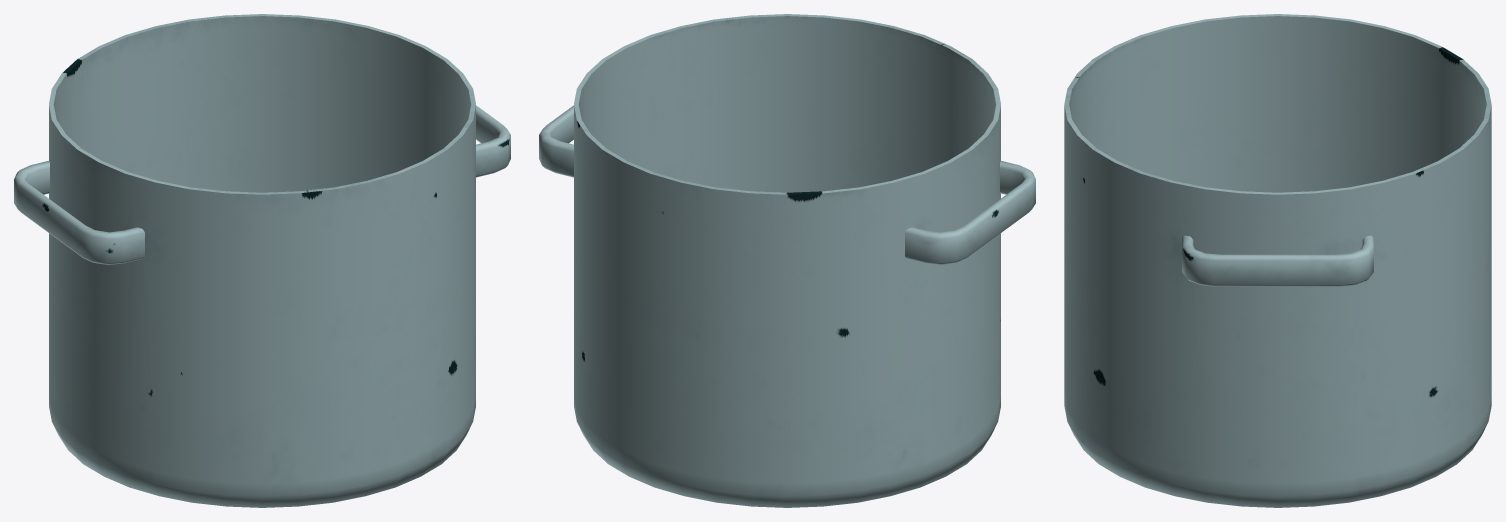
File: Pan03.FBX
3 renders of one model, left to right at view 1: azimuth 30°, elevation 25°; view 2: azimuth 150°, elevation 25°; view 3: azimuth 270°, elevation 25°, orthographic.
Visible parts, largest first — view 1: Pan03_LOD0; view 2: Pan03_LOD0; view 3: Pan03_LOD0.
Part boxes in pixels (bbox=[...]): Pan03_LOD0: bbox=[14, 14, 510, 507]; Pan03_LOD0: bbox=[539, 14, 1035, 507]; Pan03_LOD0: bbox=[1064, 14, 1491, 507].
Bounding box in the file's own units: 20.47 × 17.84 × 14.79.
